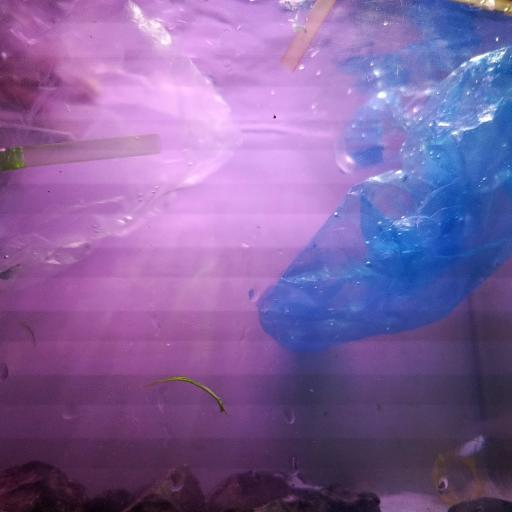plastic_bag: (255, 0, 512, 366), (0, 0, 237, 294)
plastic_straw: (0, 129, 166, 164), (287, 0, 331, 66)
